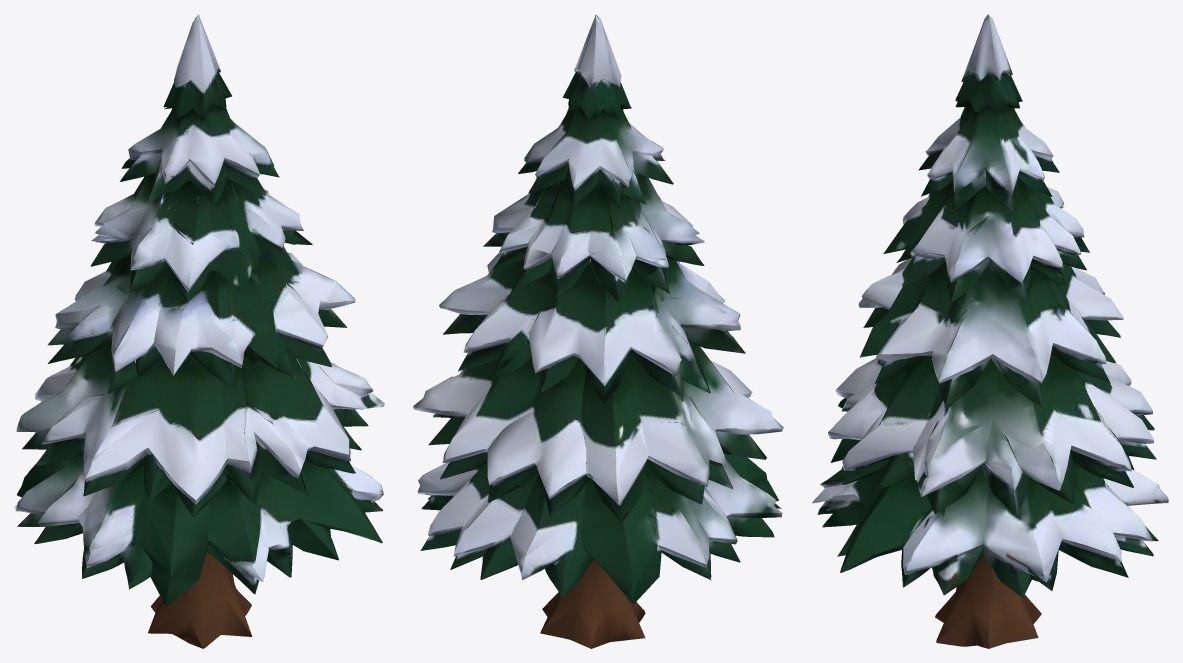
The model's file is pine_gen_b.glb.
3 views of the same model, side by side, from view 1: azimuth 30°, elevation 25°; view 2: azimuth 150°, elevation 25°; view 3: azimuth 270°, elevation 25° (orthographic).
Parts seen in each view (by area): view 1: tree_1; view 2: tree_1; view 3: tree_1.
Boxes of the visible parts, x1,y1,x2,y2 form: tree_1: (14, 14, 384, 648); tree_1: (413, 14, 783, 648); tree_1: (812, 14, 1168, 648).
Bounding box in the file's own units: 4.73 × 9 × 4.72.
1 material, 1 textured.
